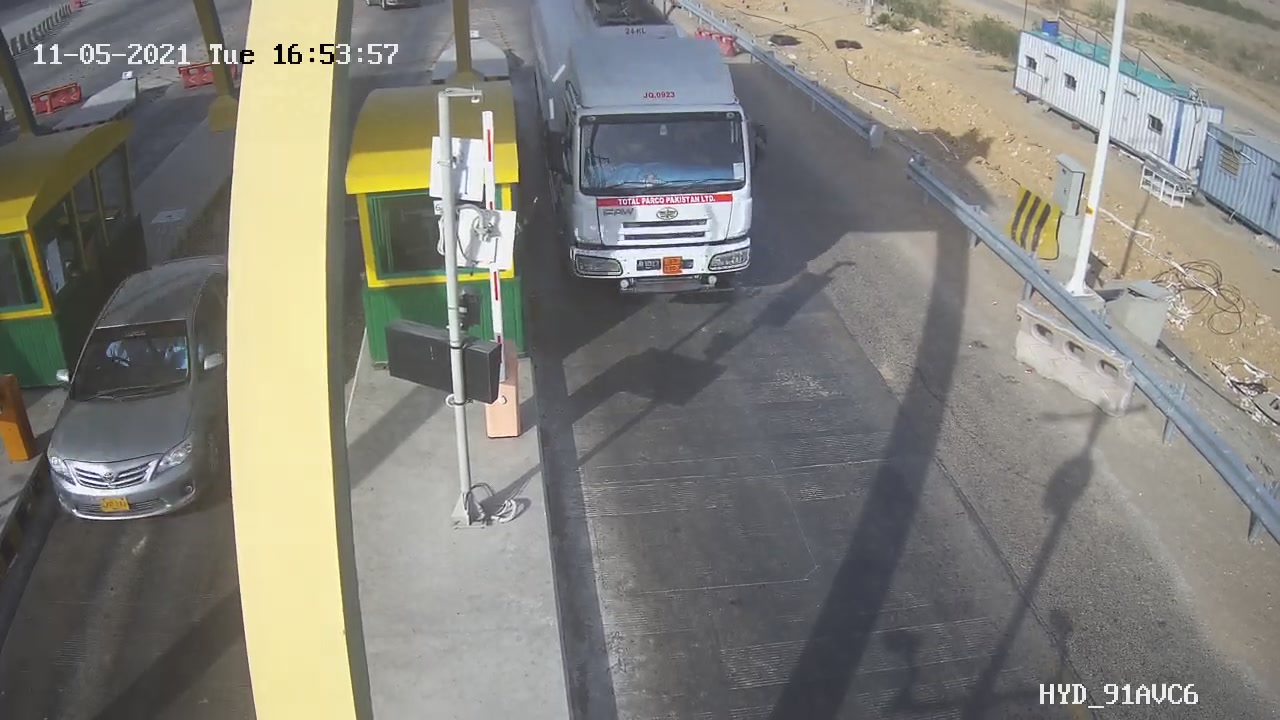F6: (514, 4, 789, 322)
